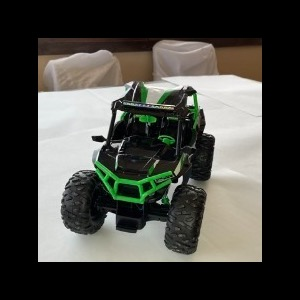polaris: (60, 79, 217, 256)
